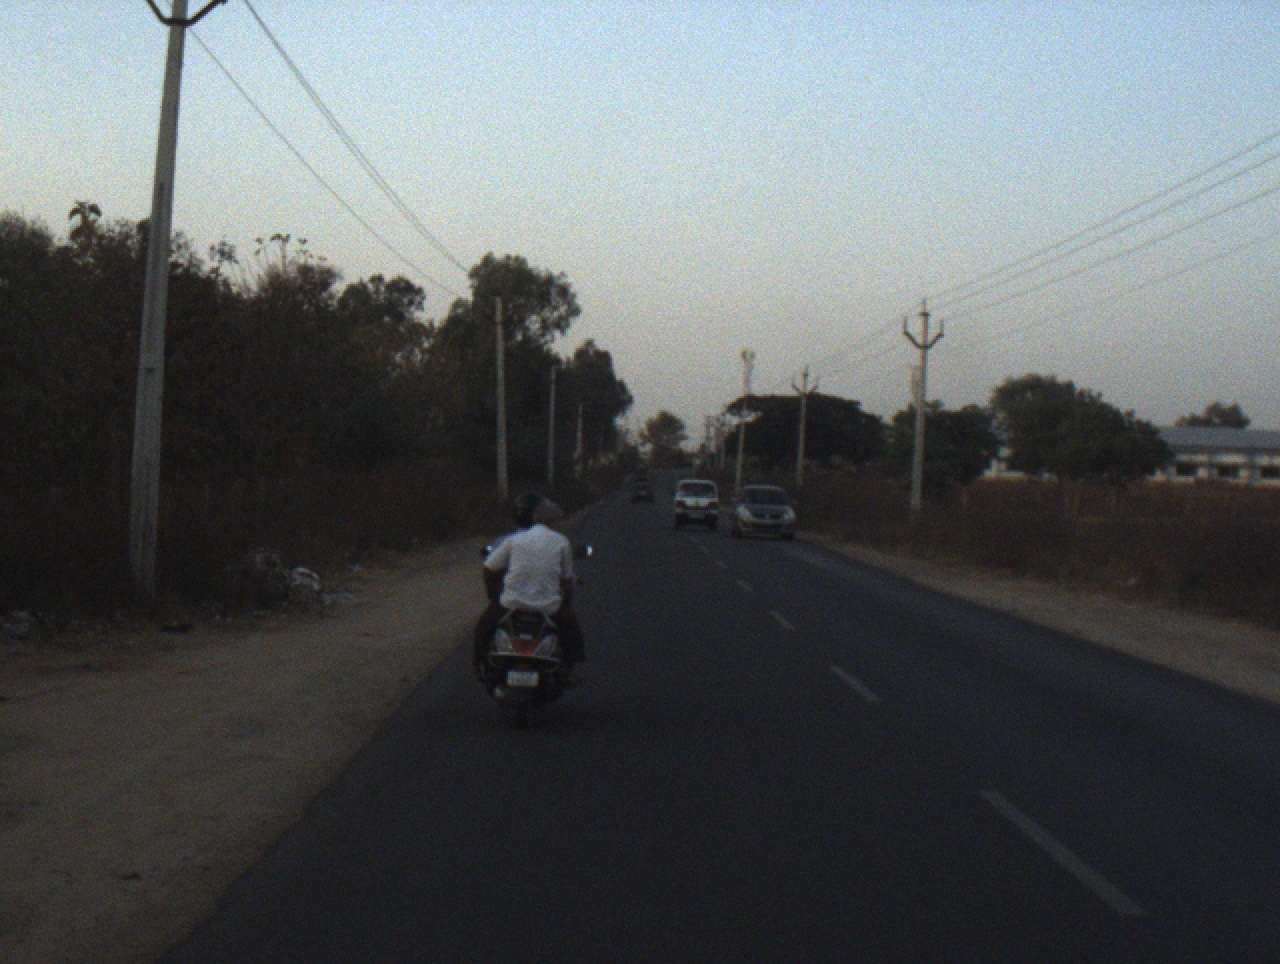autorickshaw: (629, 461, 649, 481)
car: (731, 479, 800, 542), (667, 474, 722, 533), (629, 481, 655, 503)
motorcycle: (472, 539, 597, 731)
rider: (469, 499, 587, 692), (506, 489, 544, 535)
